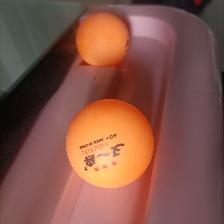YellowBall: (64, 98, 154, 189), (73, 12, 130, 67)
